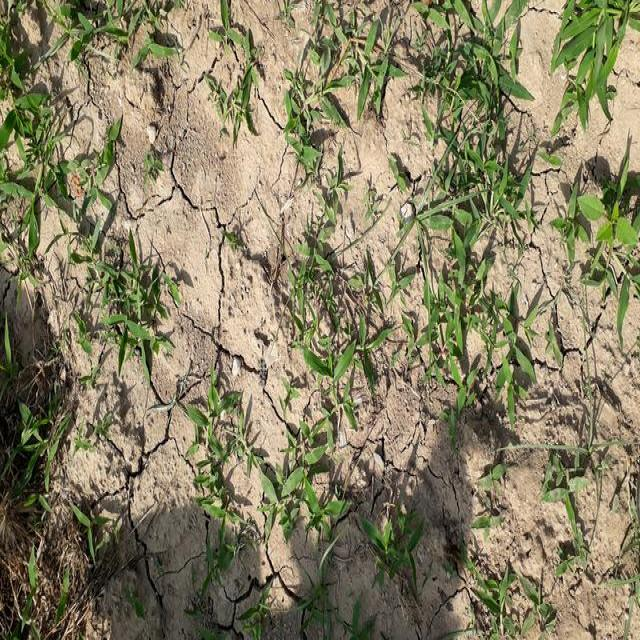weed: (9, 217, 173, 600), (416, 3, 548, 435), (274, 210, 392, 564), (0, 0, 120, 199), (290, 19, 398, 184), (560, 1, 640, 125)
